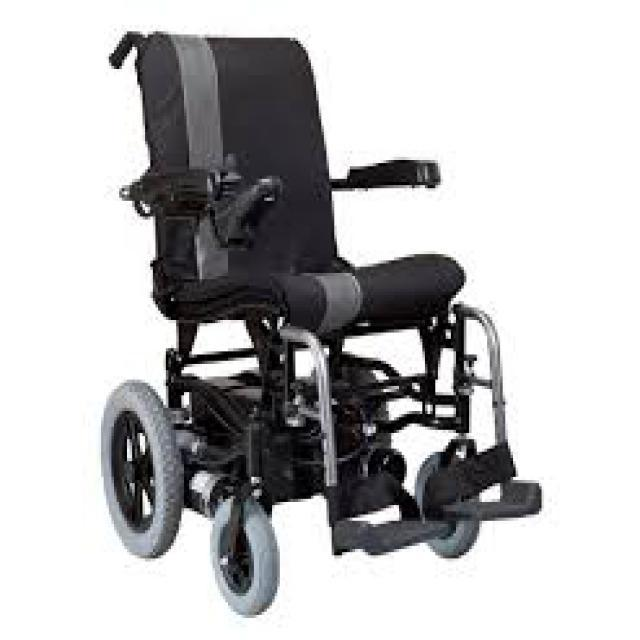wheelchair: (75, 22, 555, 612)
